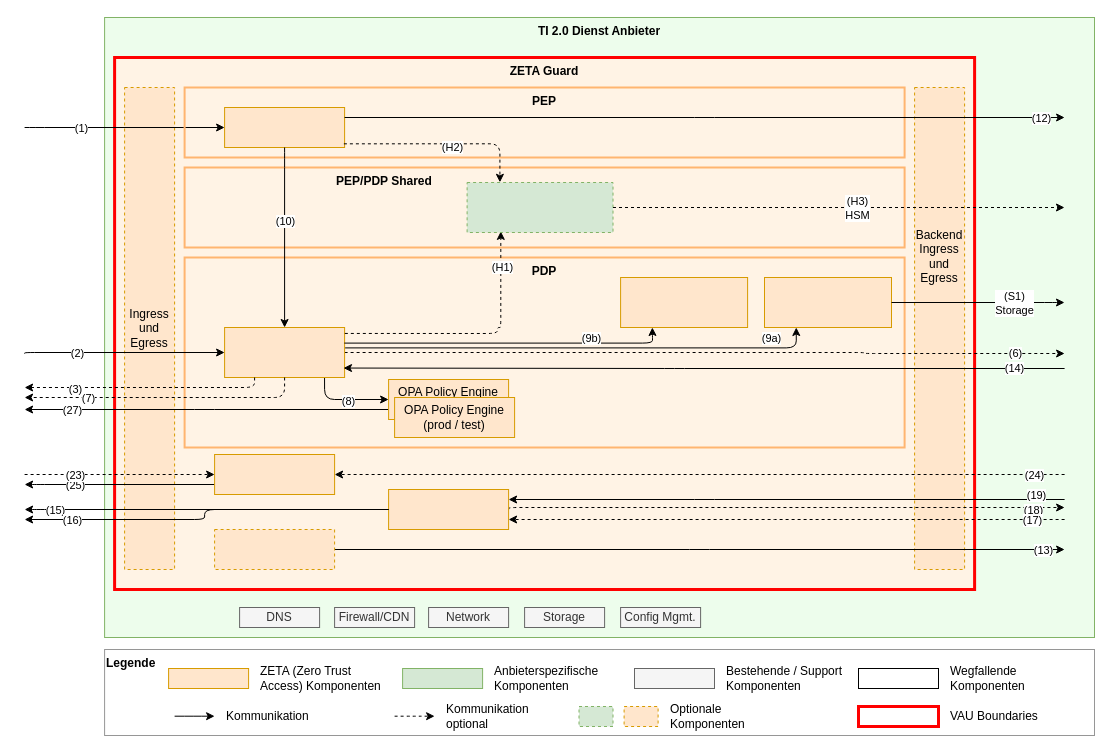
The diagram is 1112 pixels wide and 753 high, and some of its shapes have lost their labels. Here are the shapes that lost their labels. From the top down, the centre of each, then its label:
At point (284, 127): "HTTP Proxy".
At point (539, 207): "HSM Proxy (Alt: Sidecar an Http Proxy und Auth.Server)".
At point (684, 302): "Infinispan (PDP sync)".
At point (828, 302): "Postgres (PDP User/Client/Session)".
At point (284, 352): "Authorization Server".
At point (274, 474): "Notification Service".
At point (448, 509): "Telemetrie-Daten Service".
At point (274, 549): "Management Service".
